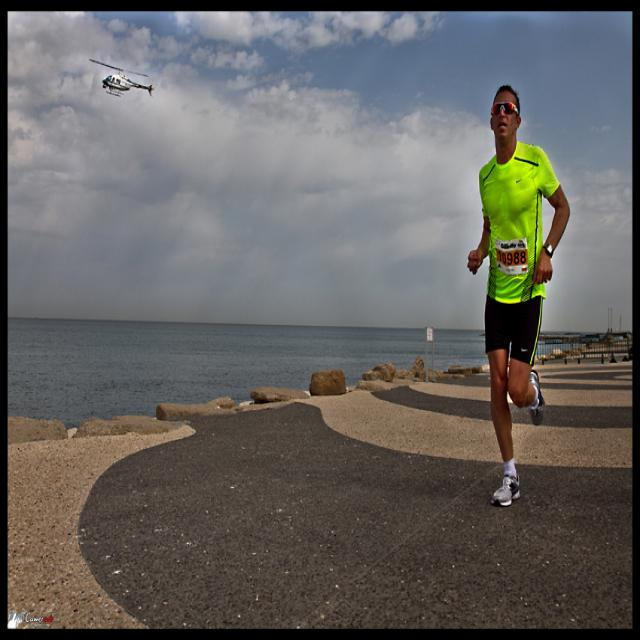Bib: (495, 252, 527, 270)
